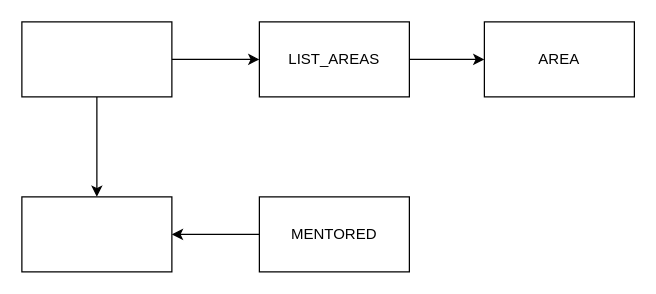
Some shapes in this 656 by 294 pixel diagram are drawn without their labels. The shapes that lost their labels are listed below. From the top down, each one's box as (x1, y1, x2, y2) in pixels, then its label:
(21, 21, 172, 97): MENTOR
(21, 196, 172, 272): SCHEDULE
